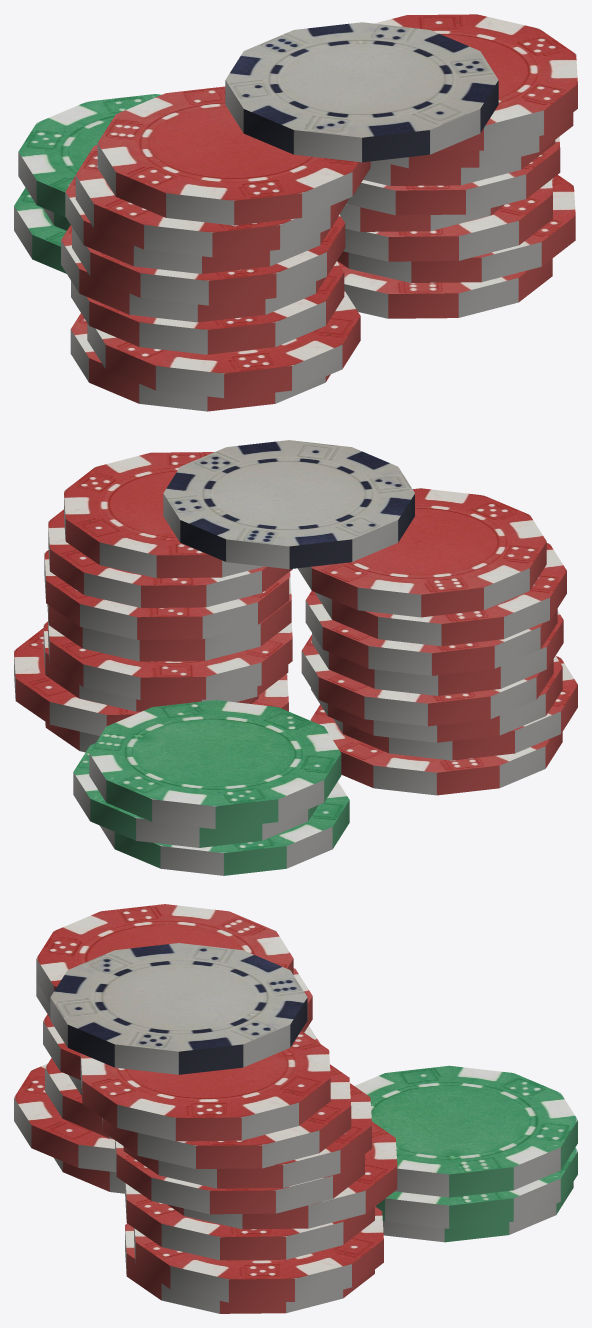
Rendered from pokerchips1.glb.
3 views of the same model, one above another, from view 1: azimuth 30°, elevation 25°; view 2: azimuth 150°, elevation 25°; view 3: azimuth 270°, elevation 25° (orthographic). The views are drawn at different scales.
Visible parts, largest first — view 1: White_Chip.001, Red_Chip_4.001, Red_Chip_10.001, Red_Chip_4.002, Red_Chip_5.001, Red_Chip_8.001, Red_Chip_7.001, Red_Chip_8.002, Red_Chip_9.002, Green_Chip.003, Red_Chip_10.002, Red_Chip_7.002 (+7 smaller); view 2: Green_Chip.003, White_Chip.001, Red_Chip_4.001, Red_Chip_4.002, Red_Chip_11.002, Red_Chip_9.001, Red_Chip_6.002, Red_Chip_5.001, Red_Chip_11.001, Red_Chip_5.002, Green_Chip.001, Red_Chip_6.001 (+8 smaller); view 3: White_Chip.001, Green_Chip.003, Red_Chip_4.002, Red_Chip_10.002, Red_Chip_4.001, Red_Chip_8.002, Red_Chip_5.002, Red_Chip_7.002, Green_Chip.002, Red_Chip_6.002, Red_Chip_11.002, Red_Chip_10.001 (+5 smaller).
Part boxes in pixels (x1,y1,x2,y2): White_Chip.001: [225, 22, 498, 162]; Red_Chip_4.001: [97, 86, 370, 225]; Red_Chip_10.001: [87, 290, 360, 398]; Red_Chip_4.002: [374, 14, 577, 150]; Red_Chip_5.001: [75, 144, 348, 257]; Red_Chip_8.001: [71, 261, 344, 354]; Red_Chip_7.001: [72, 214, 345, 305]; Red_Chip_8.002: [343, 179, 552, 261]; Red_Chip_9.002: [337, 258, 552, 318]; Green_Chip.003: [18, 94, 161, 217]; Red_Chip_10.002: [337, 175, 575, 282]; Red_Chip_7.002: [346, 136, 560, 215]; Green_Chip.003: [89, 700, 341, 829]; White_Chip.001: [163, 440, 414, 569]; Red_Chip_4.001: [298, 488, 546, 617]; Red_Chip_4.002: [64, 452, 264, 578]; Red_Chip_11.002: [48, 618, 292, 700]; Red_Chip_9.001: [310, 704, 562, 795]; Red_Chip_6.002: [44, 550, 289, 639]; Red_Chip_5.001: [315, 543, 566, 646]; Red_Chip_11.001: [301, 635, 553, 726]; Red_Chip_5.002: [48, 509, 292, 607]; Green_Chip.001: [99, 781, 349, 875]; Red_Chip_6.001: [305, 591, 557, 675]; White_Chip.001: [50, 943, 307, 1074]; Green_Chip.003: [354, 1065, 577, 1197]; Red_Chip_4.002: [80, 1031, 330, 1141]; Red_Chip_10.002: [134, 1206, 383, 1302]; Red_Chip_4.001: [36, 904, 293, 1002]; Red_Chip_8.002: [125, 1183, 374, 1260]; Red_Chip_5.002: [102, 1064, 351, 1168]; Red_Chip_7.002: [115, 1140, 364, 1214]; Green_Chip.002: [375, 1147, 577, 1228]; Red_Chip_6.002: [123, 1083, 371, 1188]; Red_Chip_11.002: [168, 1121, 397, 1229]; Red_Chip_10.001: [14, 1063, 116, 1172].
Bounding box in the file's own units: 4.63 × 2.04 × 4.68.
6 materials, 6 textured.
